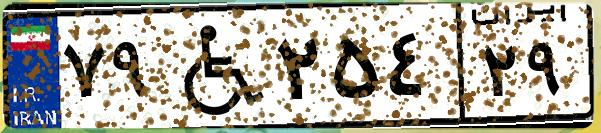2: (270, 28, 330, 110), (475, 38, 525, 113)
4: (385, 28, 445, 110)
5: (330, 28, 385, 110)
7: (57, 26, 110, 100)
9: (525, 38, 570, 115), (110, 28, 158, 98)
ژ (معلولین و جانبازان): (158, 12, 270, 120)
